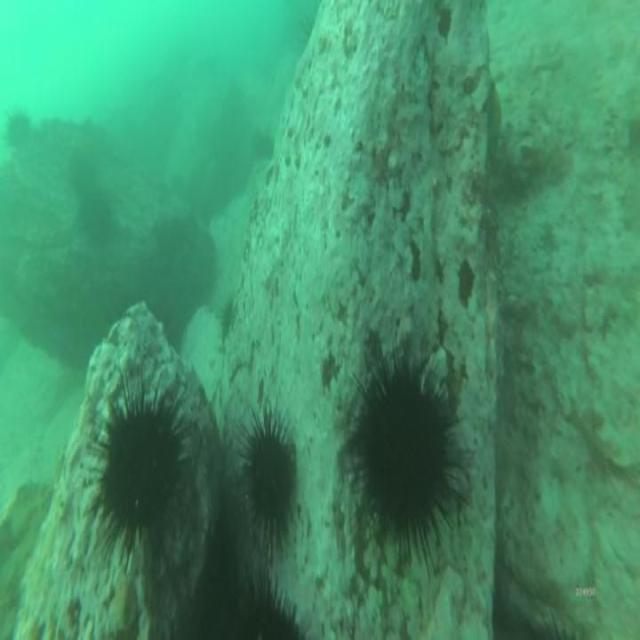echinus: (343, 344, 469, 580), (82, 368, 194, 577), (233, 403, 299, 569), (219, 575, 309, 640), (74, 186, 116, 252), (2, 101, 36, 158), (64, 147, 97, 202), (215, 292, 238, 344), (250, 126, 277, 163)
